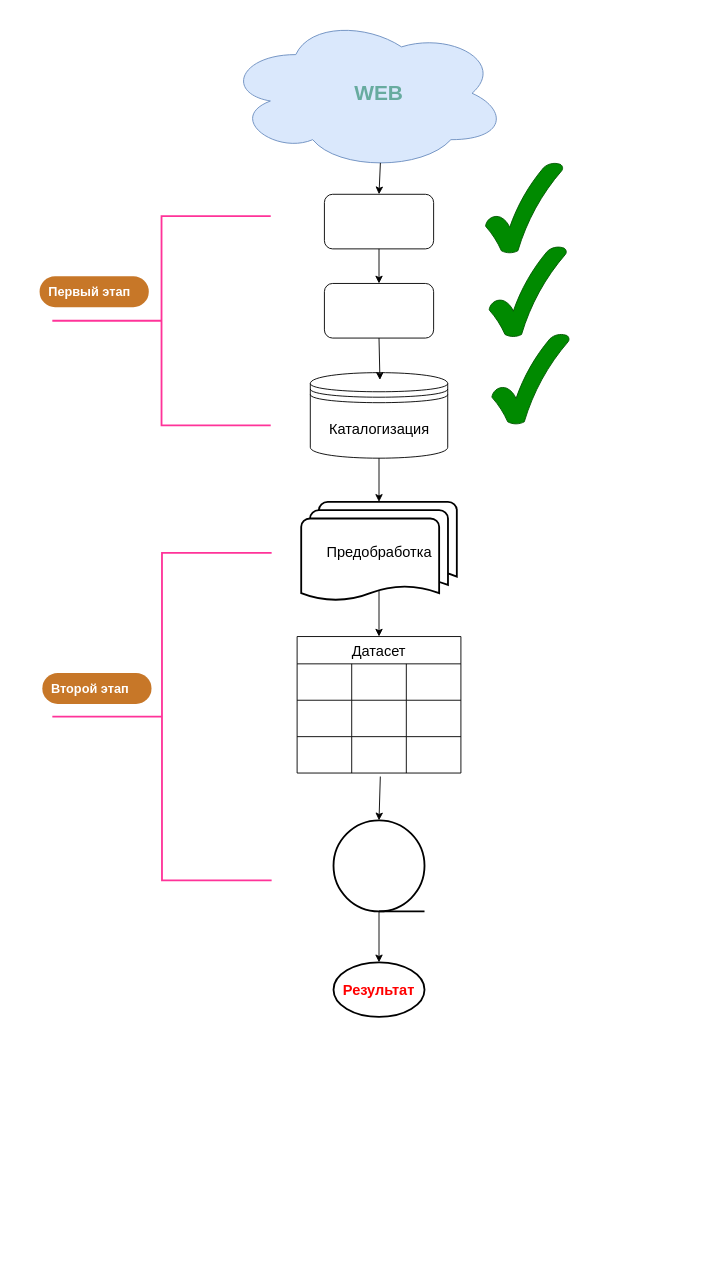
This 723x1279 diagram has some shape labels left out. Here are the shapes that lost their labels. From the top down, the centre of each, then its label:
At (x=379, y=221): "Сбор данных".
At (x=379, y=310): "Парсинг".
At (x=378, y=865): "Обучение".
